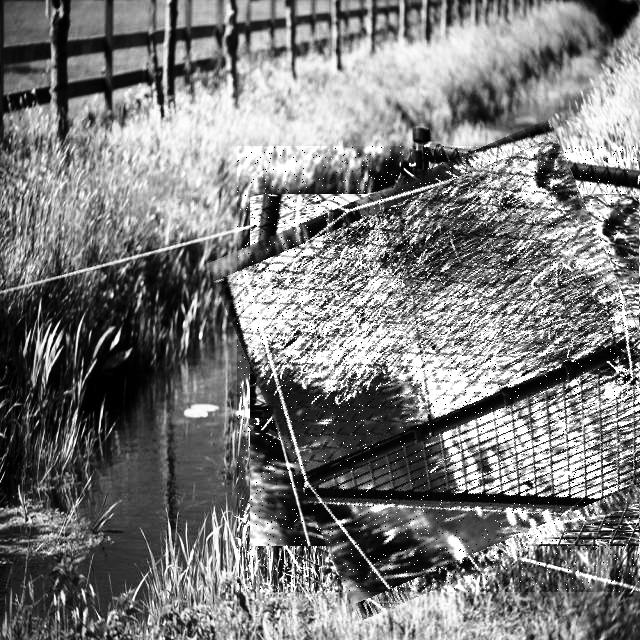fences: (237, 146, 640, 592)
